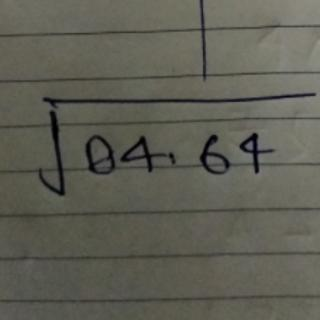.: (165, 148, 179, 166)
0: (83, 132, 117, 176)
4: (120, 134, 165, 175), (239, 132, 276, 175)
6: (201, 134, 234, 178)
